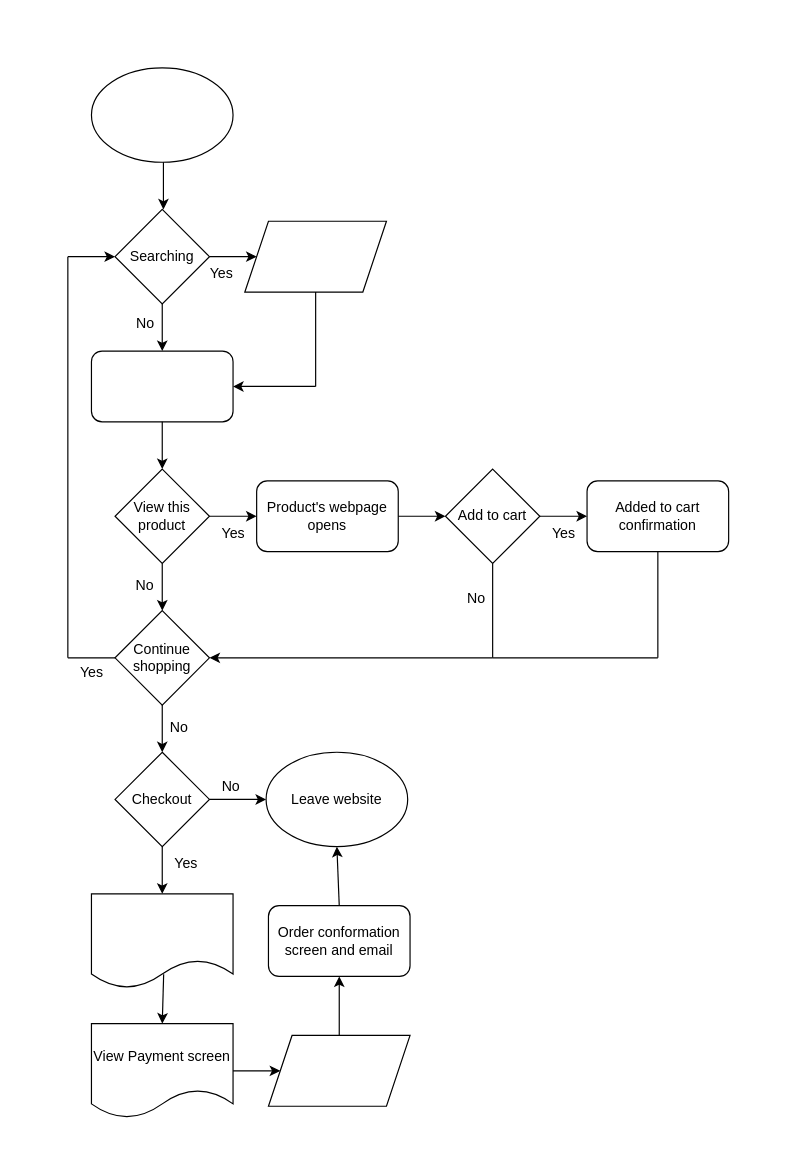
Image size: 795x1173. Some labels were removed from this diagram. The centre of each missing label's shape, as x and y in pixels:
"Input payment information" goes at point (338, 1070).
"Input to search provided by user" goes at point (315, 256).
"Products displayed for user to look at" goes at point (161, 386).
"User enters website" goes at point (161, 114).
"View Cart screen" goes at point (161, 940).
